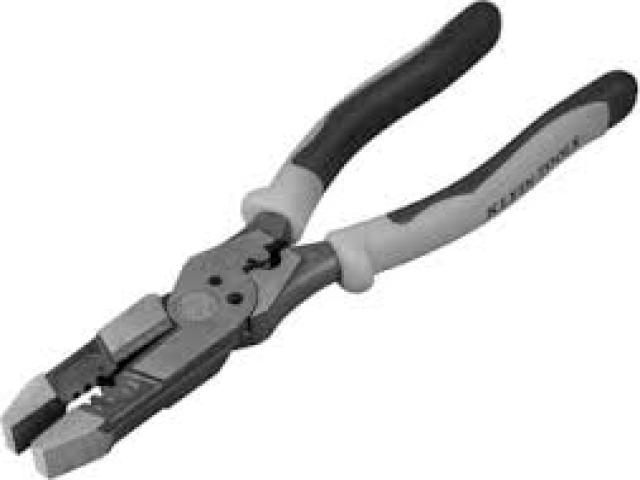Pliers: (3, 3, 640, 477)
